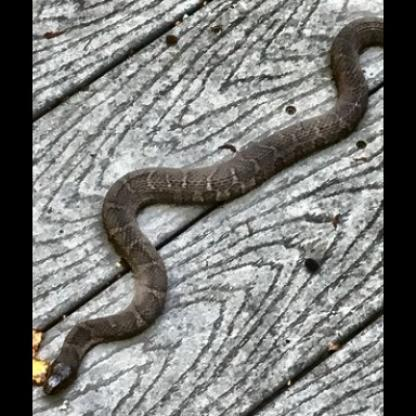Snake: (83, 4, 377, 412)
